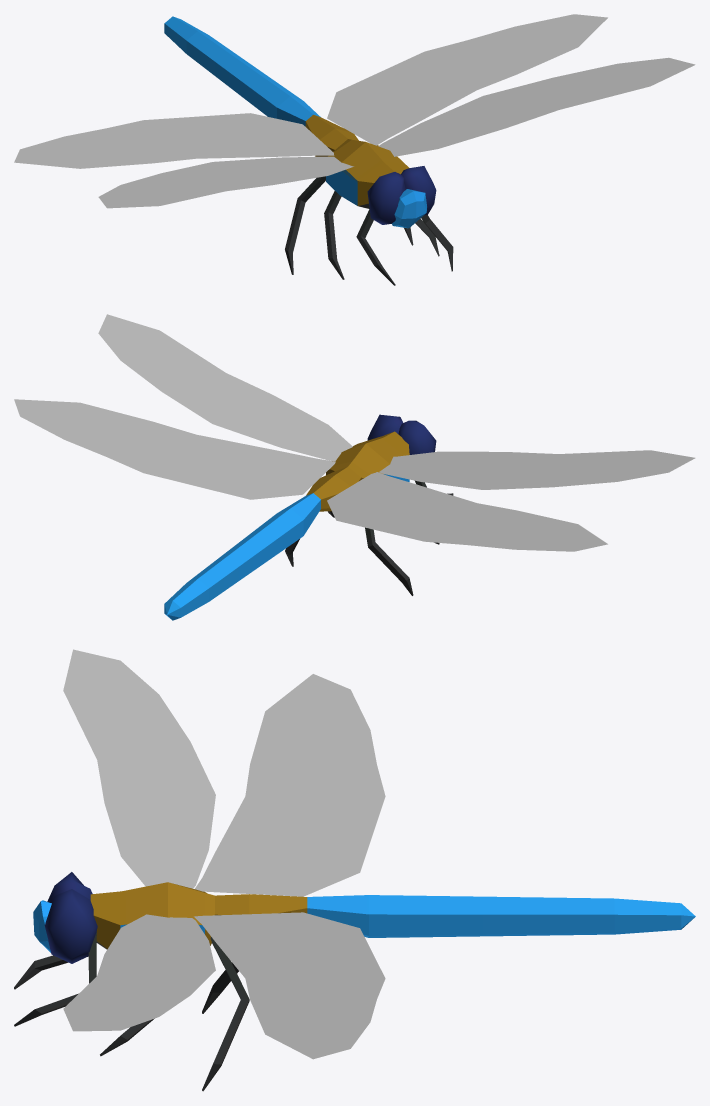
File: animals-dragonfly-077.glb
3 renders of one model, top to bottom at view 1: azimuth 30°, elevation 25°; view 2: azimuth 150°, elevation 25°; view 3: azimuth 270°, elevation 25°, orthographic. The views are drawn at different scales.
Parts seen in each view (by area): view 1: Geo_Dragonfly; view 2: Geo_Dragonfly; view 3: Geo_Dragonfly.
Part boxes in pixels (x1,y1,x2,y2): Geo_Dragonfly: (14, 14, 695, 285); Geo_Dragonfly: (14, 314, 695, 620); Geo_Dragonfly: (14, 649, 695, 1091).
Bounding box in the file's own units: 13.33 × 3.42 × 9.96.
Materials: 2 (1 with a texture image).
